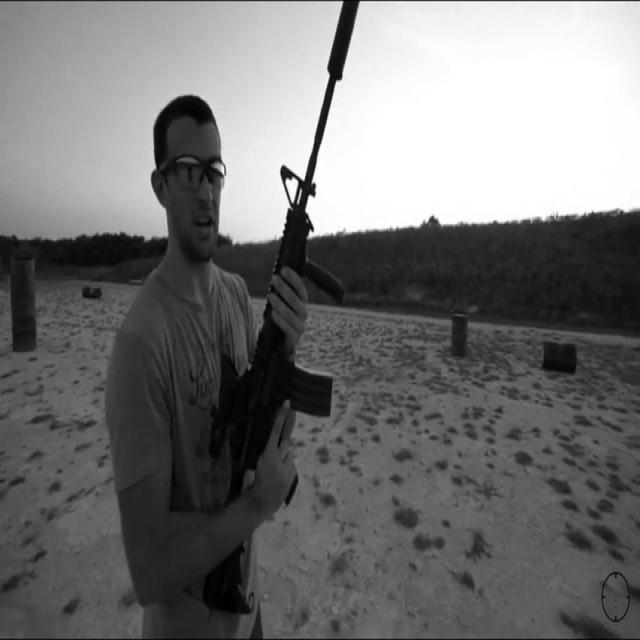Sniper: (154, 0, 459, 640)
